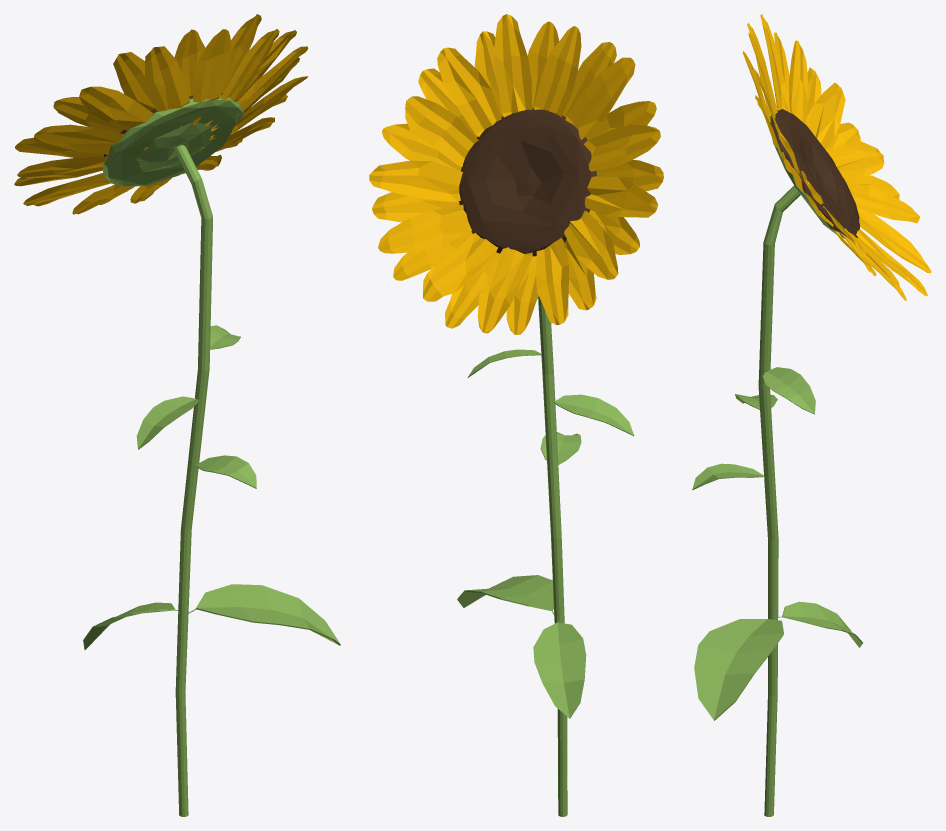
The model's file is sunflower.fbx.
3 renders of one model, left to right at view 1: azimuth 30°, elevation 25°; view 2: azimuth 150°, elevation 25°; view 3: azimuth 270°, elevation 25°, orthographic.
Visible parts, largest first — view 1: sunflower; view 2: sunflower; view 3: sunflower.
Part boxes in pixels (x1=…): sunflower: x1=14, y1=14, x2=340, y2=816; sunflower: x1=369, y1=14, x2=663, y2=816; sunflower: x1=692, y1=14, x2=931, y2=816.
Size of the model in its own units: 471 by 1251 by 348.
